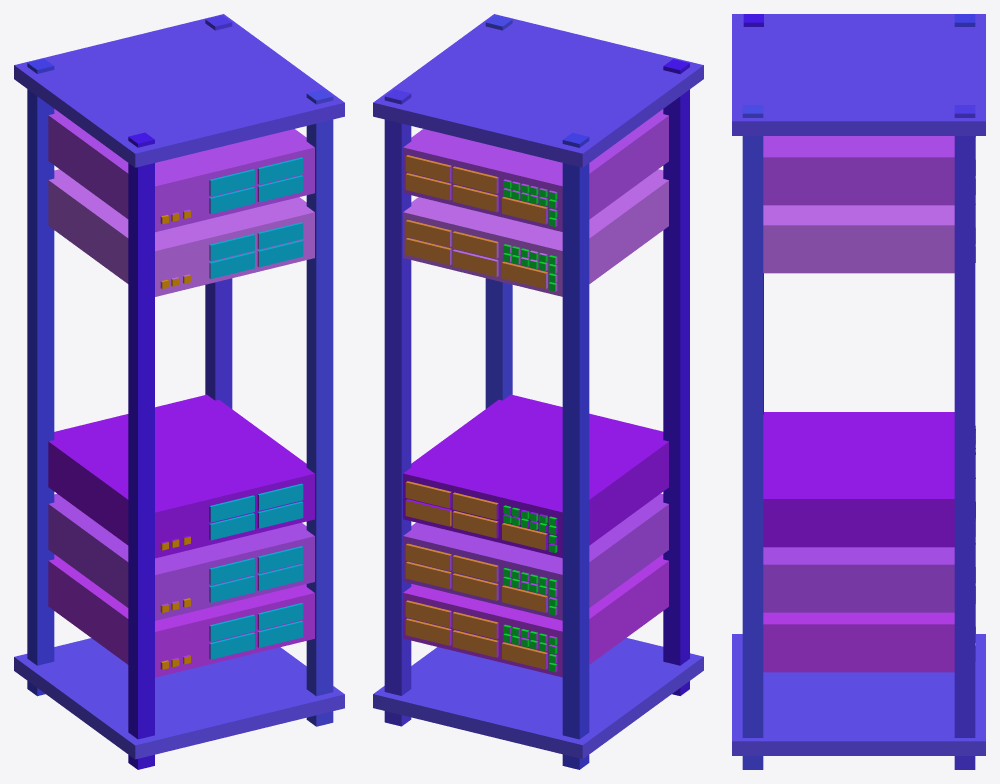
Rendered from 3server_stand_colored2.fbx.
3 views of the same model, side by side, from view 1: azimuth 30°, elevation 25°; view 2: azimuth 150°, elevation 25°; view 3: azimuth 270°, elevation 25° (orthographic). The views are drawn at different scales.
Visible parts, largest first — view 1: Cube.011; view 2: Cube.011; view 3: Cube.011.
Part boxes in pixels (x1,y1,x2,y2): Cube.011: (14,14,344,769); Cube.011: (373,14,703,769); Cube.011: (732,14,985,769).
Size of the model in its own units: 200 by 571 by 200.
